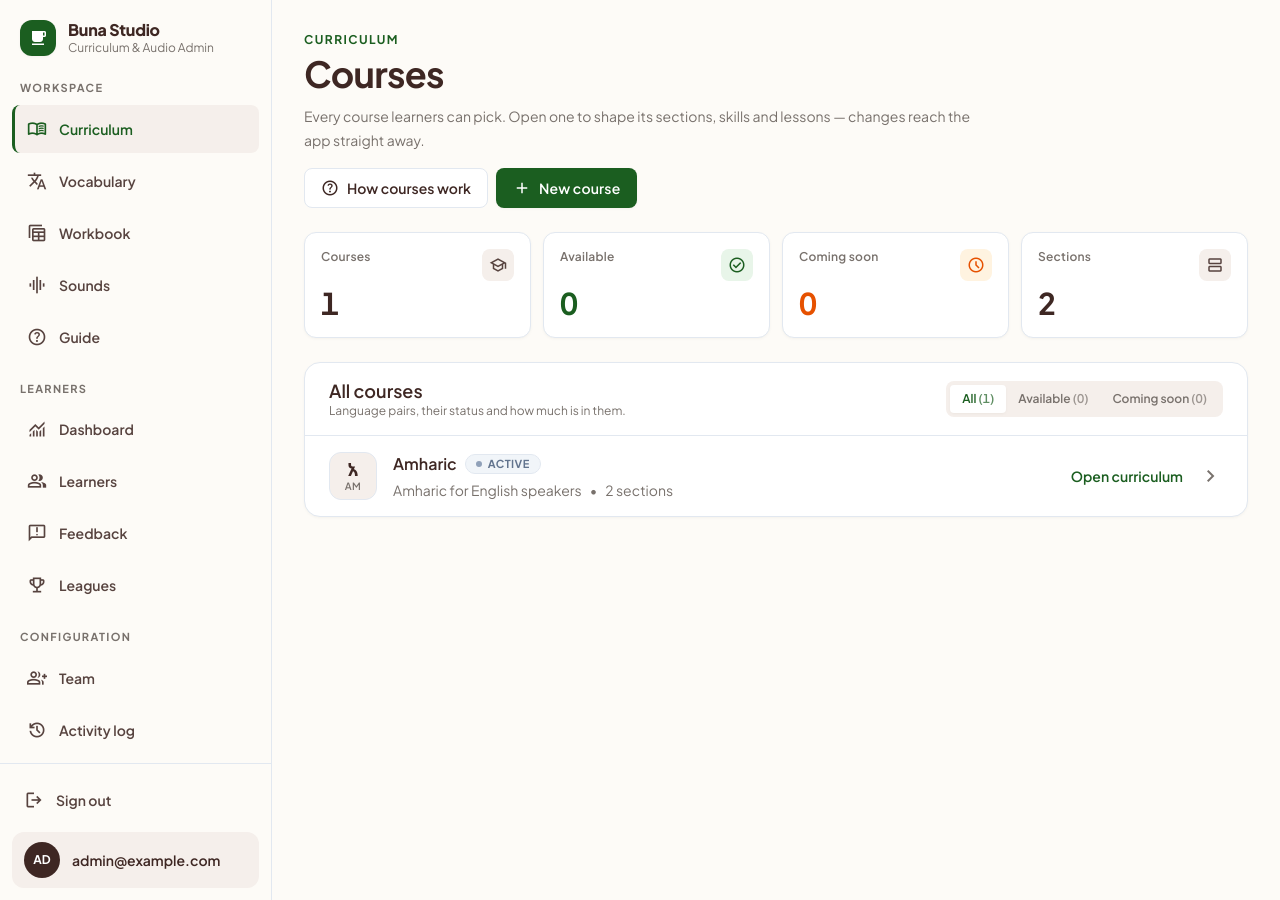
Test: the feedback page › is in the menu and lists open feedback with who sent it
Click the link "Feedback": [77, 533] box [27,521,127,545]
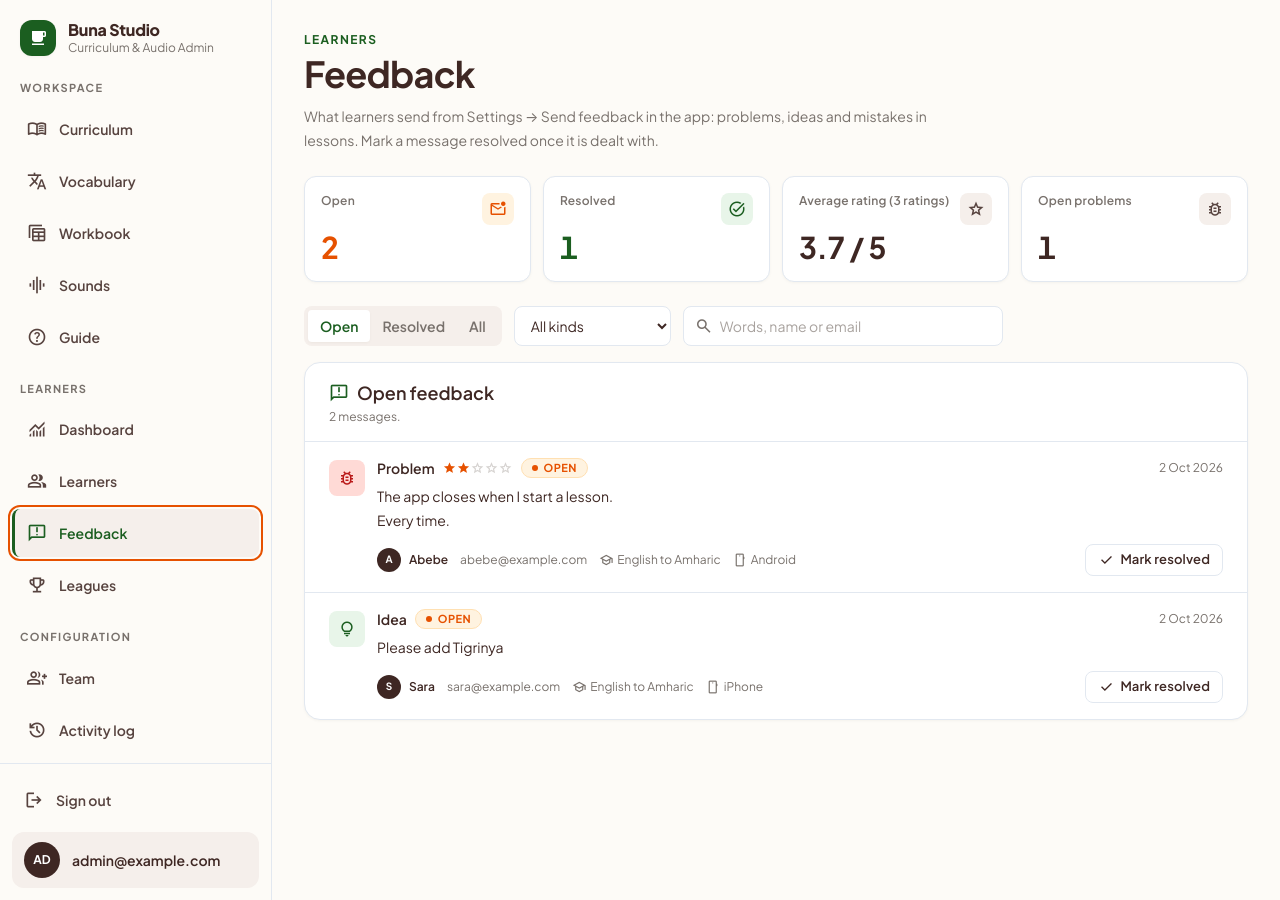
Result: the heading "Feedback" is shown at [304,51,475,96]
Result: the text "The app closes when I start a lesson. Every time." is shown at [377,487,613,529]
Result: the picture named "Rated 2 out of 5" is shown at [442,458,513,478]
